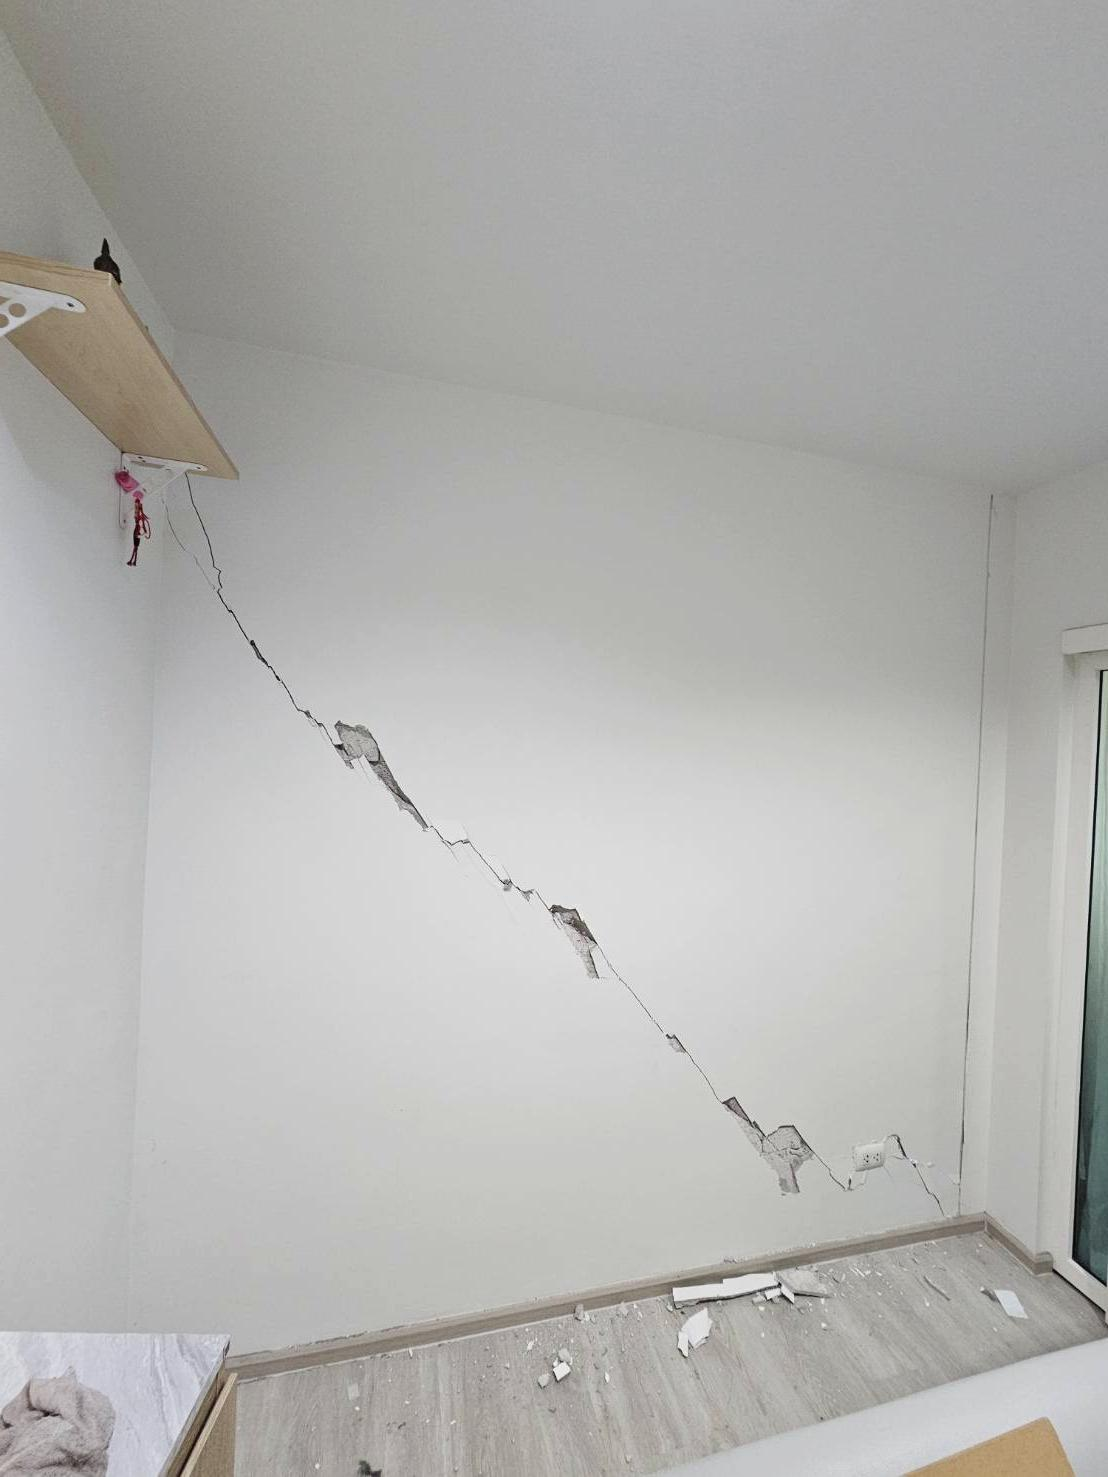High: (148, 452, 995, 1240)
